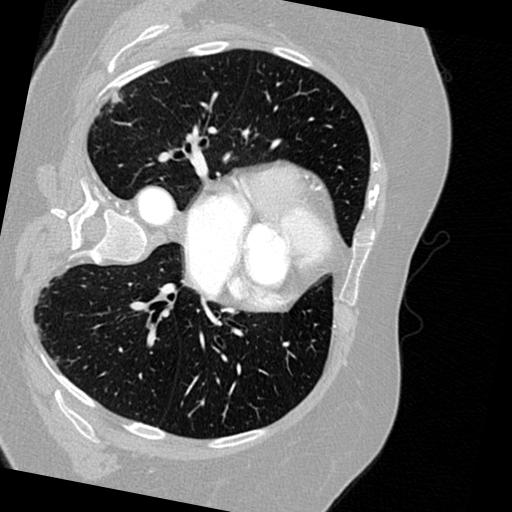nodule: (108, 92, 126, 110)
